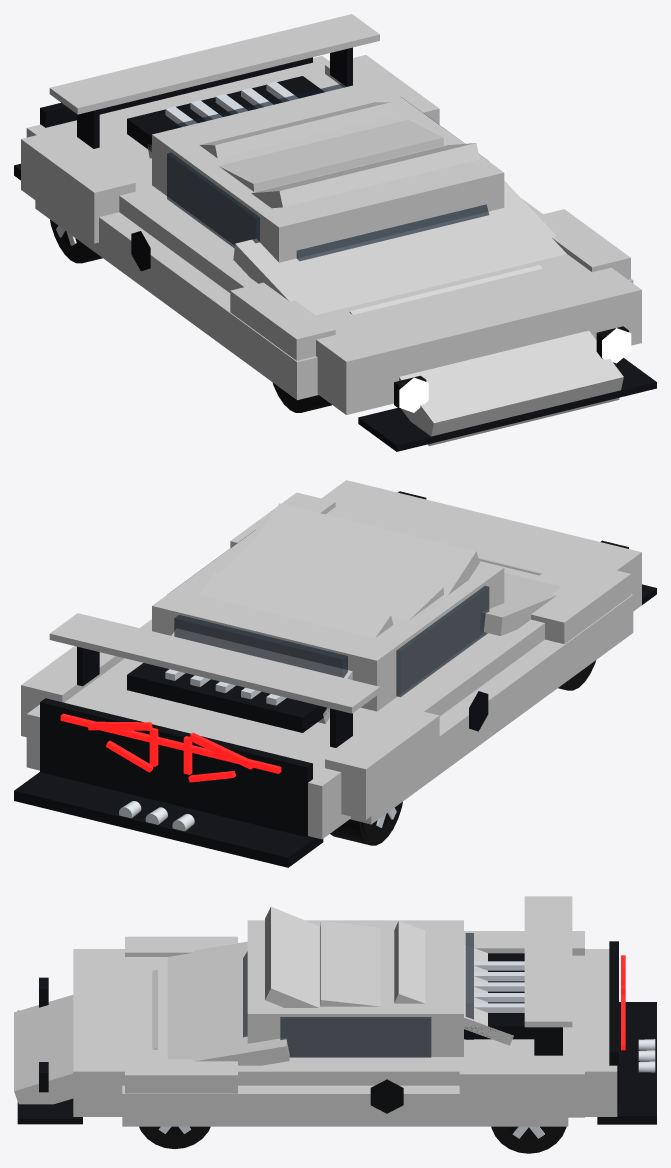
The model's file is lambchop-minotaur.glb.
3 renders of one model, top to bottom at view 1: azimuth 30°, elevation 25°; view 2: azimuth 150°, elevation 25°; view 3: azimuth 270°, elevation 25°, orthographic. The views are drawn at different scales.
Parts seen in each view (by area): view 1: chassis, glass, wheel-back-left, wheel-front-left; view 2: chassis, wheel-back-left; view 3: chassis, wheel-back-right, wheel-front-right, glass.
Boxes of the visible parts, x1,y1,x2,y2 form: chassis: (14, 14, 656, 451); glass: (296, 204, 489, 260); wheel-back-left: (50, 219, 102, 263); wheel-front-left: (273, 383, 331, 412); chassis: (14, 480, 656, 867); wheel-back-left: (330, 802, 402, 845); chassis: (14, 896, 656, 1126); wheel-back-right: (491, 1126, 566, 1153); wheel-front-right: (139, 1126, 210, 1148); glass: (243, 951, 247, 1037).
Bounding box in the file's own units: 2.85 × 1.31 × 5.39.
